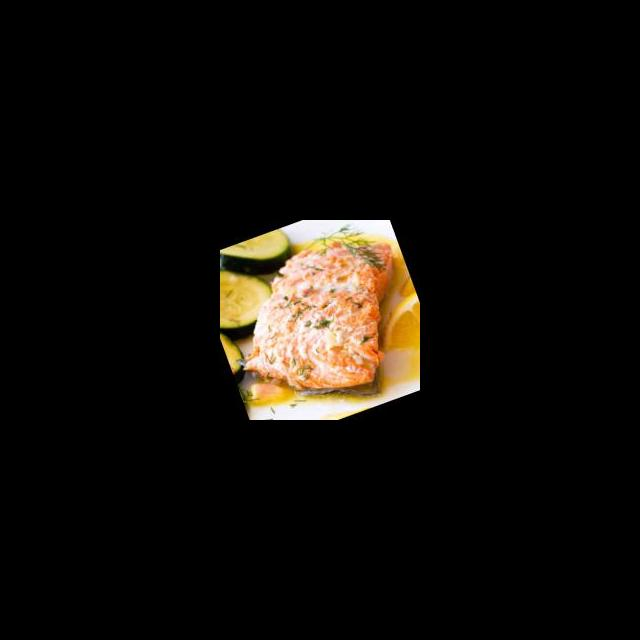ca hoi: (220, 220, 420, 420)
